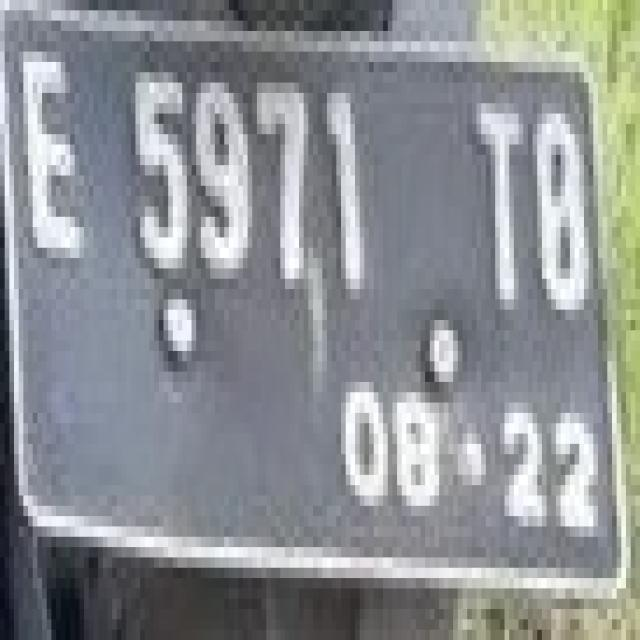plate: (0, 0, 626, 588)
